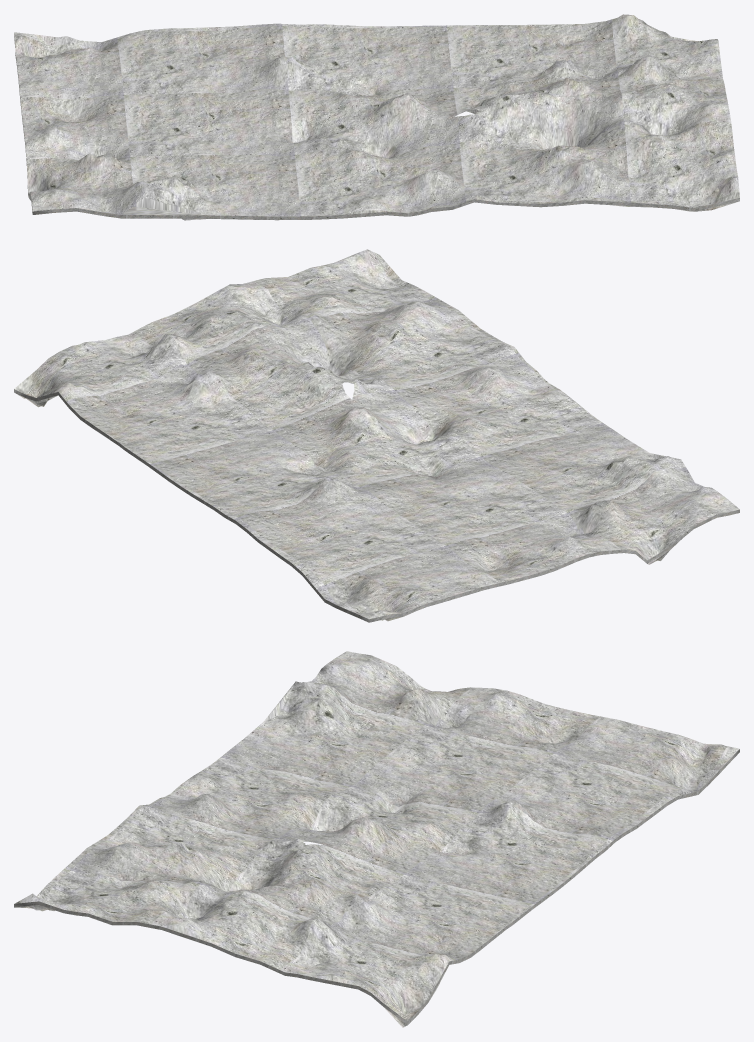
The picture shows the model from 3 angles, top to bottom: view 1: azimuth 30°, elevation 25°; view 2: azimuth 150°, elevation 25°; view 3: azimuth 270°, elevation 25°; orthographic projection. The views are drawn at different scales.
Visible parts, largest first — view 1: P; view 2: P; view 3: P.
Part boxes in pixels (x1=…): P: x1=14, y1=14, x2=739, y2=220; P: x1=14, y1=249, x2=739, y2=622; P: x1=14, y1=651, x2=739, y2=1027.
Bounding box in the file's own units: 11149 × 920 × 9970.
Materials: 1 (1 with a texture image).
